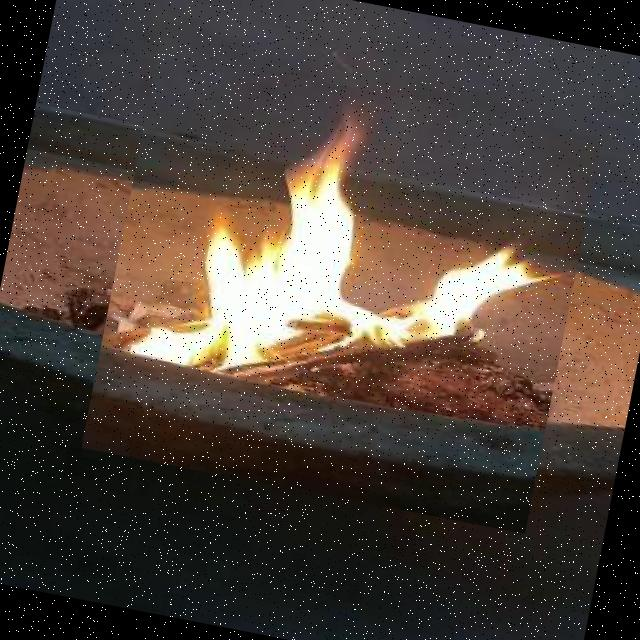fire: (81, 50, 602, 534)
